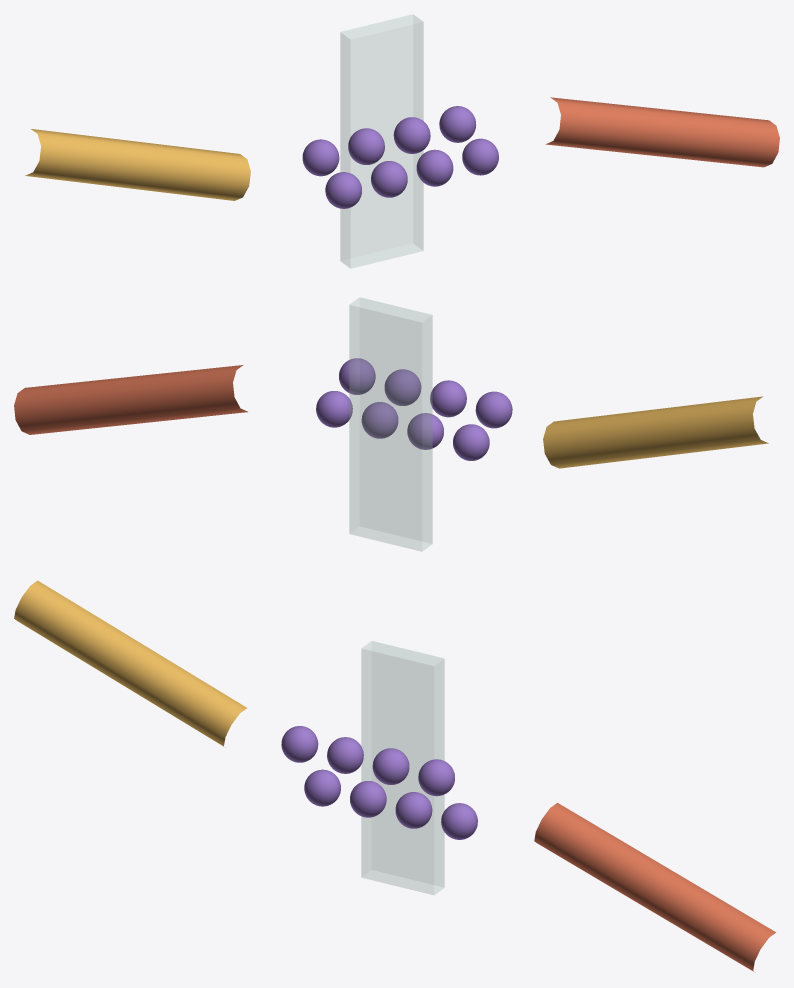
File: biology-neuroscience-synapse.glb
The picture shows the model from 3 angles, top to bottom: view 1: azimuth 30°, elevation 25°; view 2: azimuth 150°, elevation 25°; view 3: azimuth 330°, elevation 25°; orthographic projection.
Parts seen in each view (by area): view 1: synaptic-gap, receiving-dendrite, sending-terminal, neurotransmitter-0, neurotransmitter-1, neurotransmitter-5, neurotransmitter-2, neurotransmitter-3, neurotransmitter-6, neurotransmitter-7, neurotransmitter-4; view 2: synaptic-gap, receiving-dendrite, sending-terminal, neurotransmitter-0, neurotransmitter-1, neurotransmitter-2, neurotransmitter-7, neurotransmitter-3, neurotransmitter-4, neurotransmitter-5, neurotransmitter-6; view 3: synaptic-gap, receiving-dendrite, sending-terminal, neurotransmitter-2, neurotransmitter-7, neurotransmitter-3, neurotransmitter-4, neurotransmitter-0, neurotransmitter-1, neurotransmitter-5, neurotransmitter-6.
Part boxes in pixels (x1,y1,x2,y2): synaptic-gap: [340, 14, 423, 268]; receiving-dendrite: [545, 97, 779, 167]; sending-terminal: [25, 129, 250, 200]; neurotransmitter-0: [302, 139, 339, 176]; neurotransmitter-1: [325, 172, 361, 208]; neurotransmitter-5: [416, 149, 453, 186]; neurotransmitter-2: [348, 128, 384, 164]; neurotransmitter-3: [371, 161, 407, 197]; neurotransmitter-6: [439, 106, 475, 142]; neurotransmitter-7: [462, 138, 498, 175]; neurotransmitter-4: [393, 117, 430, 153]; synaptic-gap: [349, 297, 432, 551]; receiving-dendrite: [14, 365, 247, 434]; sending-terminal: [543, 396, 768, 468]; neurotransmitter-0: [475, 391, 512, 428]; neurotransmitter-1: [453, 424, 489, 460]; neurotransmitter-2: [430, 380, 466, 417]; neurotransmitter-7: [316, 391, 352, 427]; neurotransmitter-3: [407, 413, 443, 449]; neurotransmitter-4: [384, 369, 421, 405]; neurotransmitter-5: [361, 402, 398, 438]; neurotransmitter-6: [339, 358, 375, 394]; synaptic-gap: [361, 641, 444, 894]; receiving-dendrite: [534, 803, 775, 972]; sending-terminal: [14, 580, 246, 747]; neurotransmitter-2: [327, 737, 363, 773]; neurotransmitter-7: [441, 803, 477, 839]; neurotransmitter-3: [350, 781, 386, 817]; neurotransmitter-4: [372, 748, 409, 784]; neurotransmitter-0: [281, 726, 318, 762]; neurotransmitter-1: [304, 769, 340, 806]; neurotransmitter-5: [395, 792, 432, 828]; neurotransmitter-6: [418, 759, 454, 796].
Size of what is drawn, in the model's own units: 1.65 by 0.48 by 0.135.
